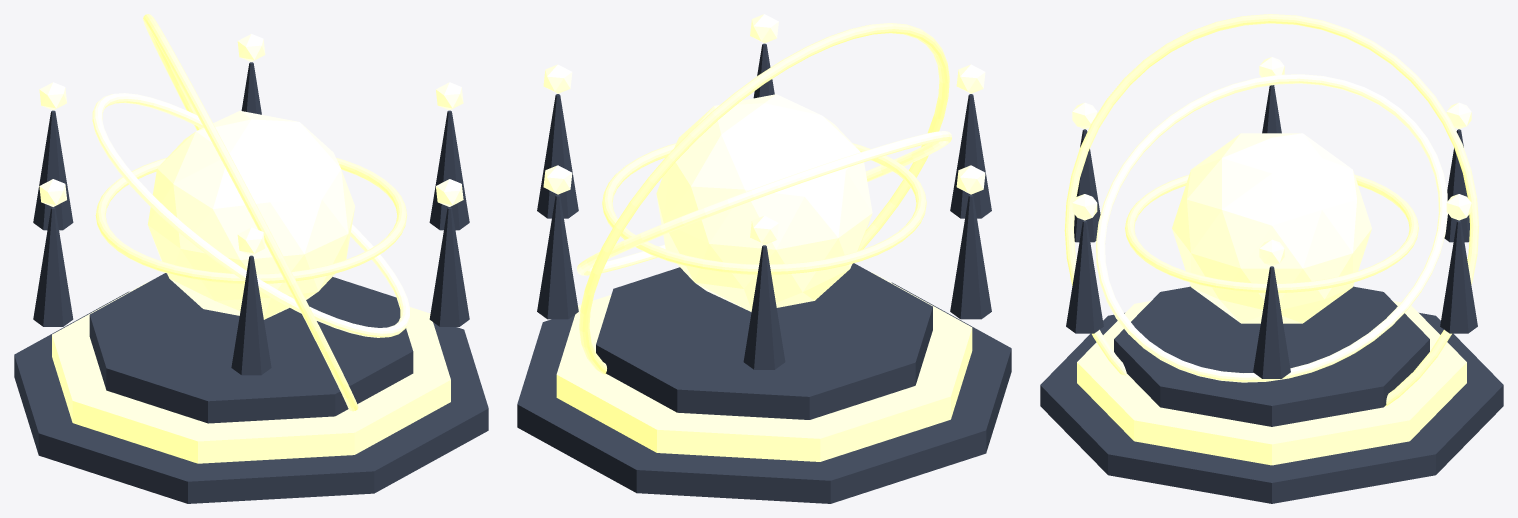
Rendered from gpu-blender-v34.glb.
3 renders of one model, left to right at view 1: azimuth 30°, elevation 25°; view 2: azimuth 150°, elevation 25°; view 3: azimuth 270°, elevation 25°, orthographic. The views are drawn at different scales.
Parts seen in each view (by area): view 1: Cylinder.002, SovereignCore_agent-capsule-jail, Cylinder, Cylinder.001, Torus.001, Torus.002, Torus, Cone.004, Cone.003, Cone.005, Cone, Cone.002 (+7 smaller); view 2: Cylinder.002, SovereignCore_agent-capsule-jail, Cylinder, Cylinder.001, Torus.002, Torus.001, Torus, Cone.001, Cone.003, Cone.002, Cone, Cone.004 (+6 smaller); view 3: SovereignCore_agent-capsule-jail, Cylinder.002, Cylinder, Cylinder.001, Torus.001, Torus.002, Torus, Cone.001, Cone.005, Cone, Cone.004, Cone.002 (+4 smaller).
Boxes of the visible parts, x1,y1,x2,y2 form: Cylinder.002: (89, 273, 413, 423); SovereignCore_agent-capsule-jail: (147, 110, 355, 319); Cylinder: (14, 291, 488, 503); Cylinder.001: (52, 281, 450, 463); Torus.001: (92, 93, 410, 337); Torus.002: (143, 14, 358, 411); Torus: (95, 158, 407, 283); Cone.004: (231, 255, 271, 375); Cone.003: (33, 207, 73, 326); Cone.005: (429, 207, 469, 326); Cone: (429, 110, 469, 230); Cone.002: (33, 110, 73, 230); Cylinder.002: (596, 263, 932, 419); SovereignCore_agent-capsule-jail: (656, 94, 872, 311); Cylinder: (517, 282, 1011, 503); Cylinder.001: (556, 272, 972, 461); Torus.002: (579, 23, 949, 374); Torus.001: (577, 131, 951, 275); Torus: (602, 143, 926, 274); Cone.001: (537, 195, 578, 319); Cone.003: (950, 195, 991, 319); Cone.002: (743, 245, 785, 369); Cone: (537, 94, 578, 218); Cone.004: (950, 94, 991, 218); SovereignCore_agent-capsule-jail: (1172, 133, 1371, 323); Cylinder.002: (1114, 286, 1429, 426); Cylinder: (1040, 313, 1503, 503); Cylinder.001: (1077, 301, 1466, 465); Torus.001: (1096, 74, 1447, 382); Torus.002: (1064, 14, 1479, 406); Torus: (1125, 175, 1418, 292); Cone.001: (1440, 220, 1477, 333); Cone.005: (1066, 220, 1103, 333); Cone: (1253, 266, 1290, 378); Cone.004: (1074, 129, 1100, 242); Cone.002: (1444, 129, 1469, 242).
Bounding box in the file's own units: 4.41 × 3.72 × 4.4.
